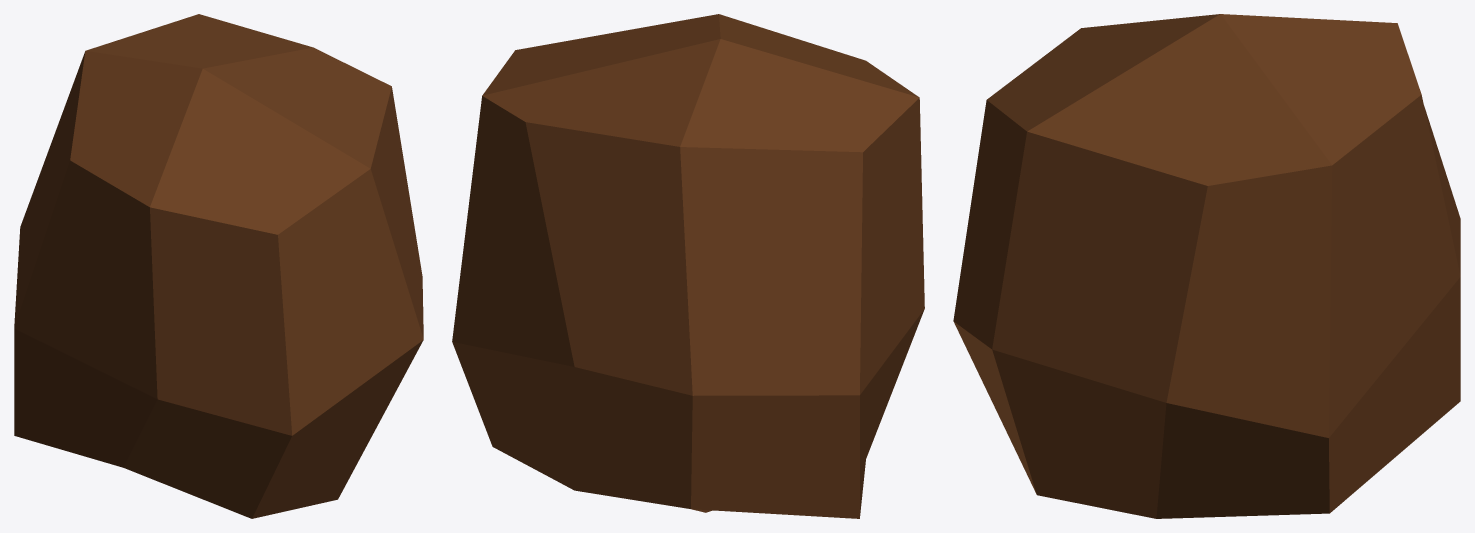
The model's file is Asteroids1.fbx.
The picture shows the model from 3 angles, left to right: view 1: azimuth 30°, elevation 25°; view 2: azimuth 150°, elevation 25°; view 3: azimuth 270°, elevation 25°; orthographic projection. The views are drawn at different scales.
Visible parts, largest first — view 1: Meteor1; view 2: Meteor1; view 3: Meteor1.
Boxes of the visible parts, x1,y1,x2,y2 form: Meteor1: (14, 14, 423, 518); Meteor1: (452, 14, 924, 518); Meteor1: (953, 14, 1460, 518).
Size of the model in its own units: 685 by 769 by 738.
